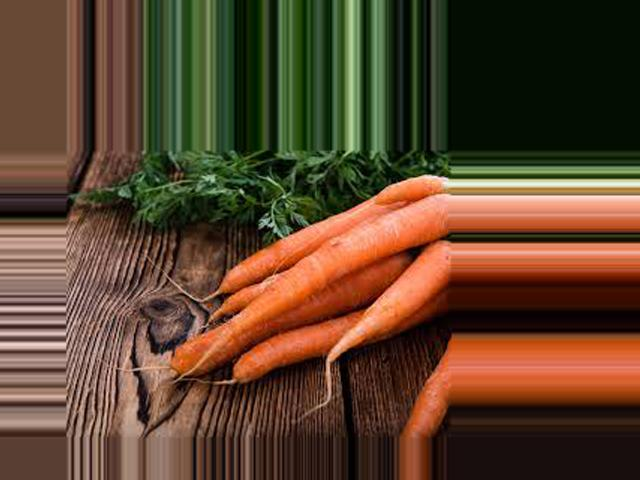carrot: (330, 245, 444, 358)
